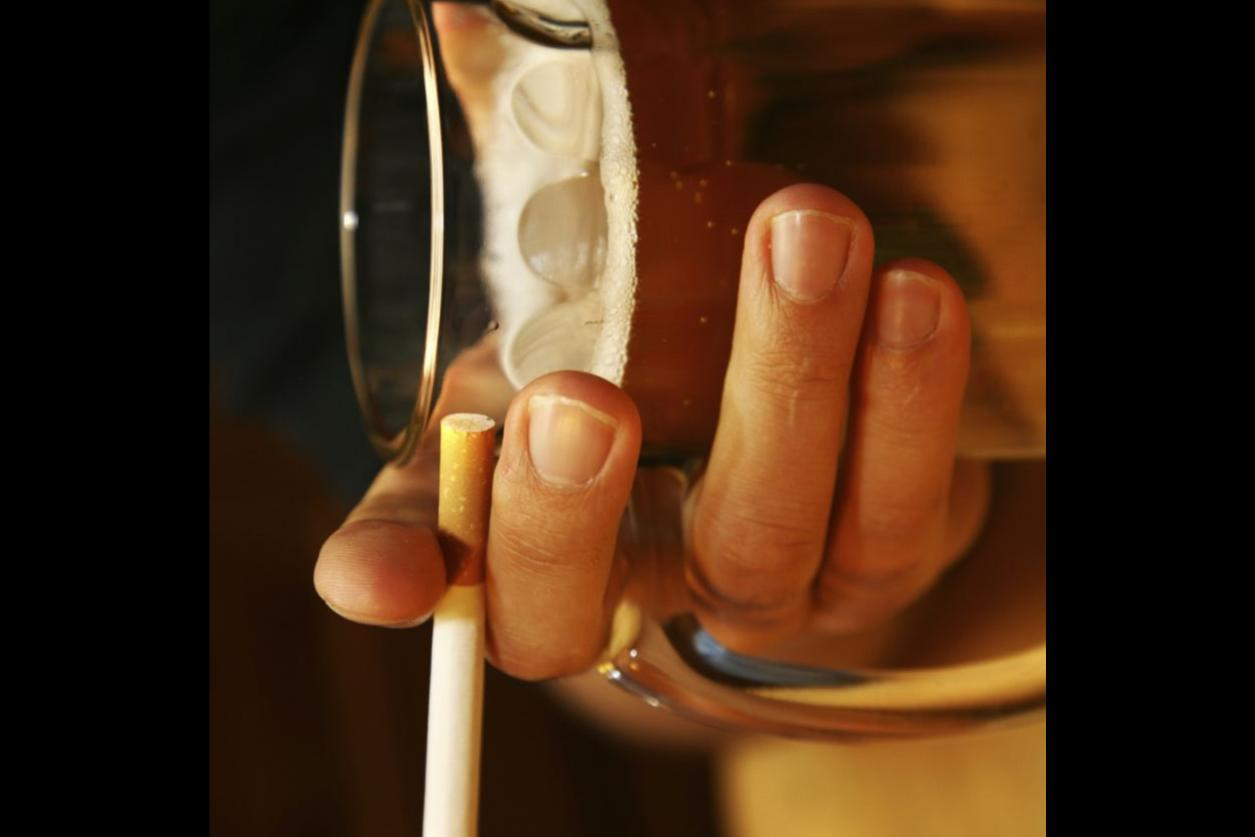Cigarette: (411, 412, 499, 837)
